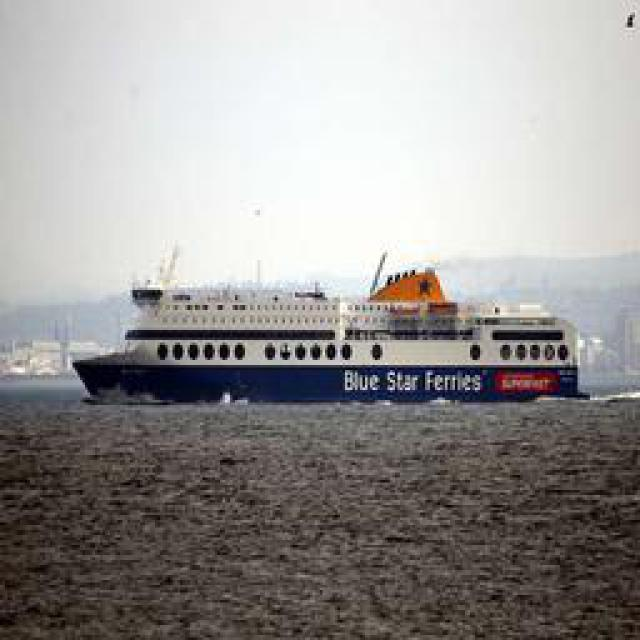Ship: (70, 260, 585, 408)
